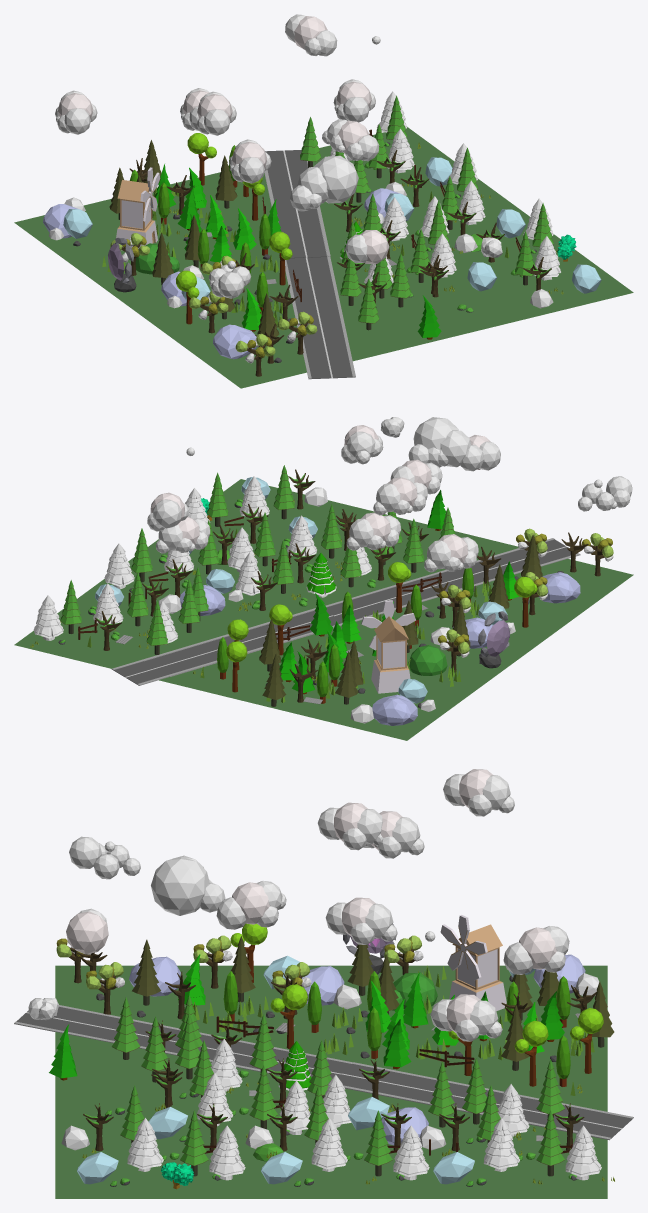
3 renders of one model, top to bottom at view 1: azimuth 30°, elevation 25°; view 2: azimuth 150°, elevation 25°; view 3: azimuth 270°, elevation 25°, orthographic. The views are drawn at different scales.
Parts seen in each view (by area): view 1: Plane, Cube.016, Cube.024, Mill, Icosphere.016, Sphere.006, Arbre Normal, Arbre Normal.004, Cube.072, Arbre Normal.003, Icosphere.089, Sphere.003 (+36 smaller); view 2: Plane, Cube.024, Cube.016, Mill, Sphere.002, Icosphere.025, Icosphere.016, Sphere.006, Icosphere.017, Cone.020, Cone.004, Cone.016 (+48 smaller); view 3: Plane, Cube.024, Cube.016, Mill, Icosphere.016, Icosphere.089, propeller, Icosphere.105, Icosphere.010, Cone.010, Cone.016, Cone.018 (+64 smaller).
Boxes of the visible parts, left/top/right/bottom form: Plane: left=14, top=127, right=633, bottom=388; Cube.016: left=285, top=270, right=355, bottom=379; Cube.024: left=264, top=150, right=330, bottom=258; Mill: left=116, top=180, right=157, bottom=250; Icosphere.016: left=313, top=155, right=358, bottom=203; Sphere.006: left=213, top=324, right=256, bottom=359; Arbre Normal: left=235, top=333, right=275, bottom=376; Arbre Normal.004: left=277, top=311, right=317, bottom=354; Cube.072: left=264, top=165, right=332, bottom=271; Arbre Normal.003: left=188, top=291, right=228, bottom=333; Icosphere.089: left=360, top=230, right=389, bottom=263; Sphere.003: left=63, top=209, right=92, bottom=238; Plane: left=14, top=479, right=633, bottom=740; Cube.024: left=111, top=608, right=342, bottom=685; Cube.016: left=351, top=538, right=580, bottom=615; Mill: left=371, top=616, right=410, bottom=693; Sphere.002: left=372, top=694, right=417, bottom=725; Icosphere.025: left=408, top=645, right=447, bottom=675; Icosphere.016: left=413, top=417, right=458, bottom=449; Sphere.006: left=539, top=572, right=580, bottom=603; Icosphere.017: left=440, top=430, right=471, bottom=467; Cone.020: left=105, top=543, right=133, bottom=584; Cone.004: left=307, top=553, right=335, bottom=594; Cone.016: left=34, top=595, right=62, bottom=636; Plane: left=55, top=965, right=607, bottom=1198; Cube.024: left=338, top=1062, right=633, bottom=1140; Cube.016: left=14, top=1005, right=316, bottom=1075; Mill: left=449, top=924, right=506, bottom=1011; Icosphere.016: left=151, top=856, right=209, bottom=915; Icosphere.089: left=66, top=911, right=108, bottom=954; propeller: left=440, top=915, right=487, bottom=980; Icosphere.105: left=519, top=927, right=556, bottom=969; Icosphere.010: left=232, top=882, right=269, bottom=924; Cone.010: left=484, top=1118, right=519, bottom=1167; Cone.016: left=566, top=1125, right=601, bottom=1174; Cone.018: left=312, top=1118, right=346, bottom=1167.
Bounding box in the file's own units: 3989 × 1829 × 4347.
